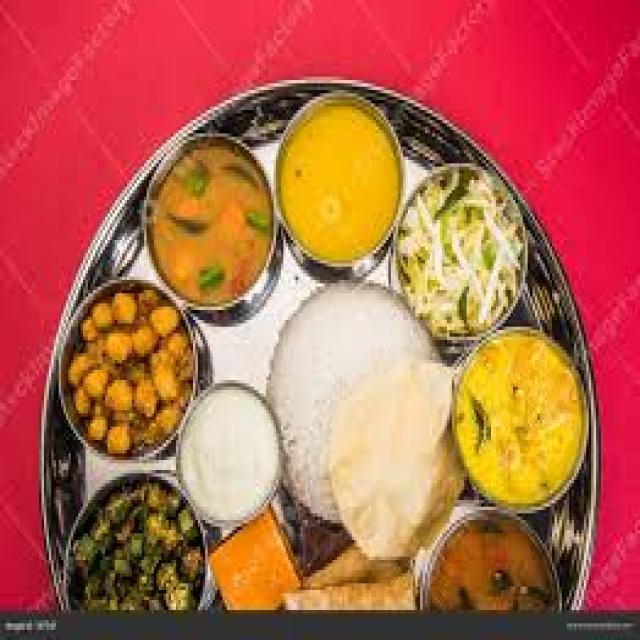curd: (176, 377, 290, 524)
dal: (138, 127, 276, 323), (270, 88, 413, 273)
papad: (268, 276, 454, 537)
veg-fry: (131, 125, 278, 320), (390, 158, 531, 341), (429, 504, 554, 619)
